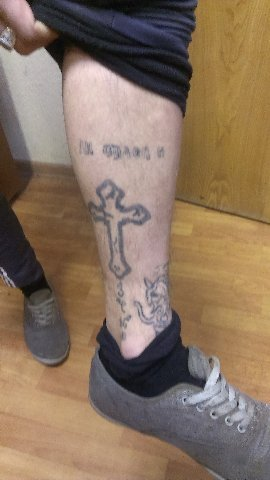tatu9_krest: (87, 178, 161, 277)
